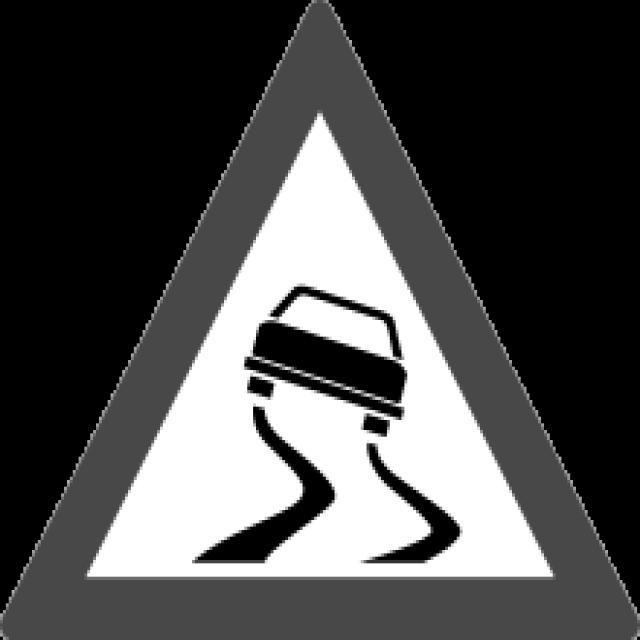slippery road: (31, 24, 610, 624)
